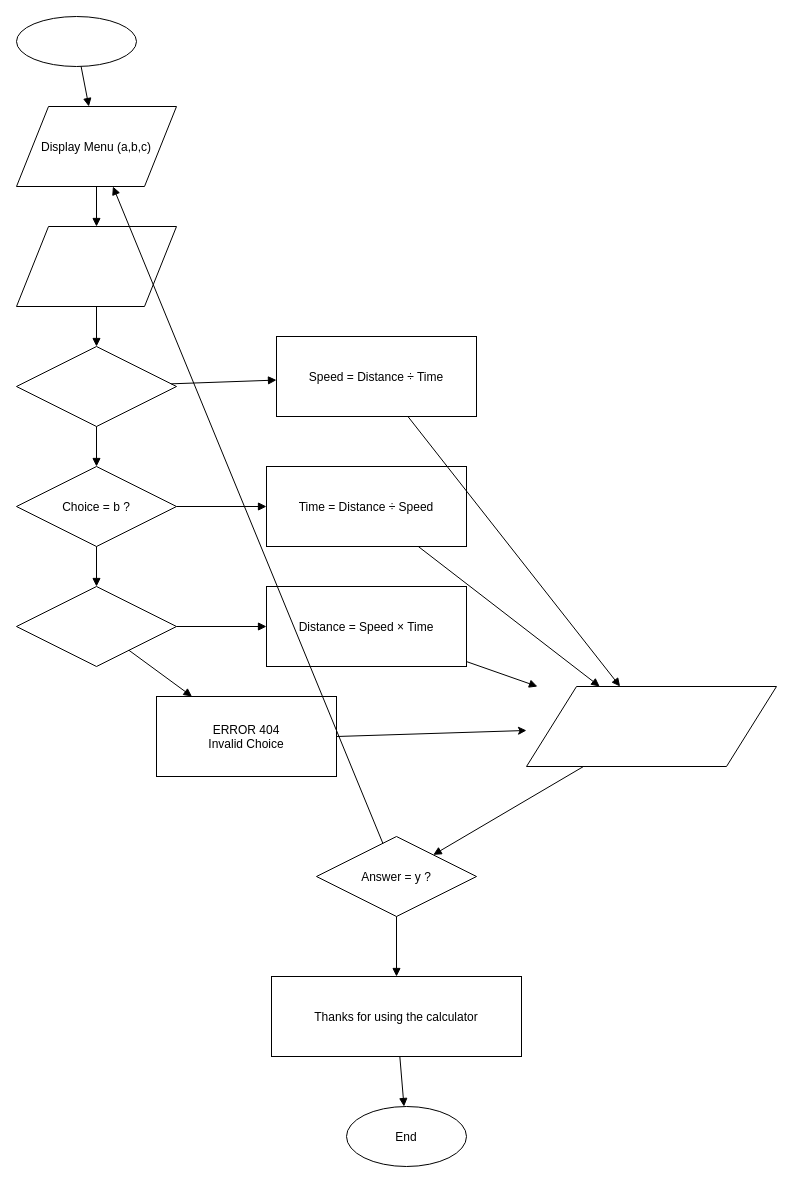
Image size: 793x1183. Some labels were removed from this diagram. Here are the shapes that lost their labels. From the top down, the box of each, then its label:
(16, 16, 136, 66): Start
(16, 226, 176, 306): Input Choice
(16, 346, 176, 426): Choice = a ?
(16, 586, 176, 666): Choice = c ?
(526, 686, 776, 766): Do you want to calculate again? (y/n)
